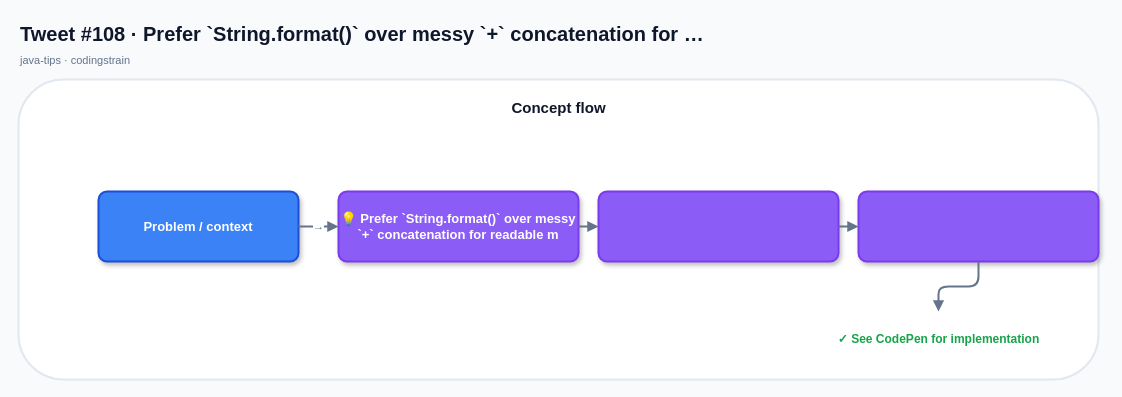
This 1122x397 diagram has some shape labels left out. The centre of each missing label's shape, as x and y in pixels:
Easy to reorder or add fields without breaking the string: (x=979, y=227)
Placeholders keep the template and values separate: (x=719, y=227)
